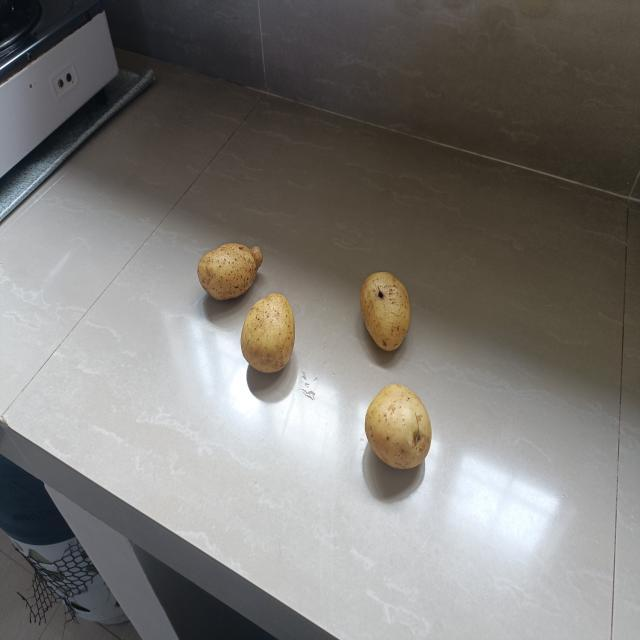potato: (363, 378, 432, 471), (239, 289, 298, 375), (358, 269, 411, 356), (197, 239, 265, 303)
